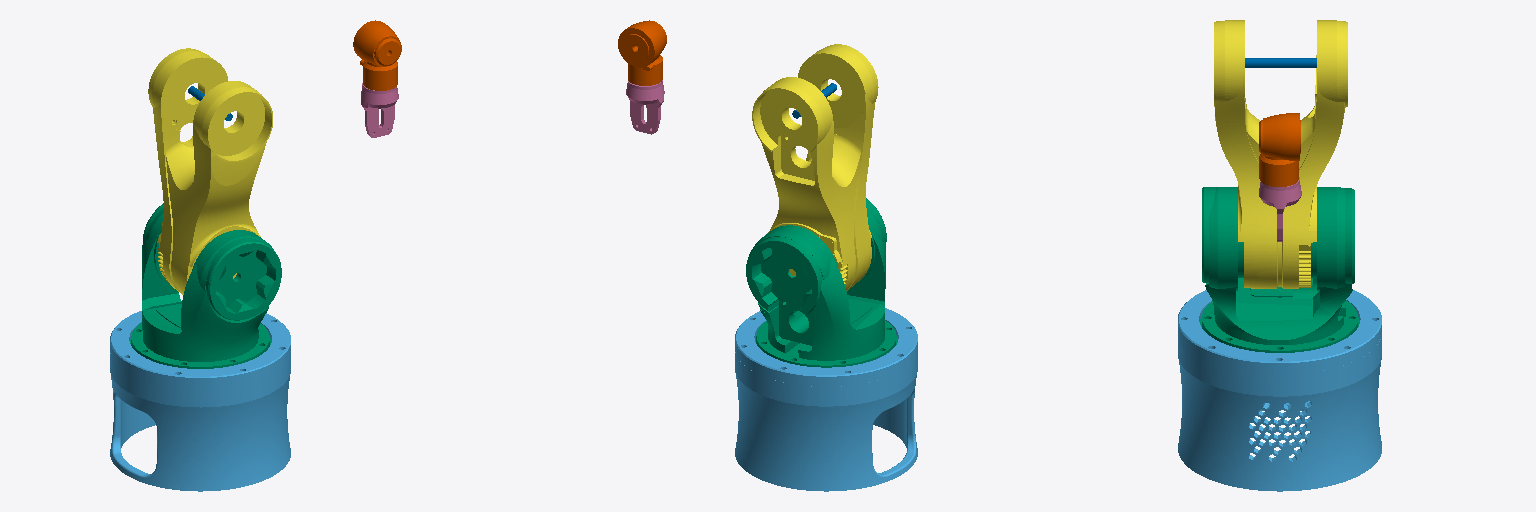
robot.urdf — manipulador:
<?xml version="1.0"?>
<robot name="manipulador">

<!--===================== LINKS =====================-->
  <link name = "world">
  </link>
  <!-- Support - 1 parte -->
  <link name="Support">
    <!--origin rpy="0 0 0" xyz="0 0 0.54" /-->
    <inertial>
      <!-- Volume:  4.9678384375e-01 -->
      <mass value="1.0"/>

      <!-- Center of mass:  7.1726190000e-02  8.3274000000e-04  1.3966684000e-01 -->
      <origin xyz="7.1726190000e-02  8.3274000000e-04  1.3966684000e-01" rpy="0 0 0"/>

      <!-- Inertia matrix -->
      <inertia
        ixx="4.2189241908e-01"
        ixy="5.9379537743e-04"
        ixz="6.7296383368e-03" 
        iyy="3.8385869267e-01"
        iyz="2.9011387812e-04" 
        izz="5.6774468564e-01" 
      />
    </inertial>
    <visual name="Support">
      <origin rpy="0 0 0" xyz="0 0 0.55" />
      <geometry>
        <mesh filename="package://manipulador_description/meshes/Support/Support.stl"/>
      </geometry>
    </visual>
    <collision>
      <origin rpy="0 0 0" xyz="0 0 0.55" />
      <geometry>
        <mesh filename="package://manipulador_description/meshes/Support/Support.stl"/>
      </geometry>
    </collision>

    <visual name="Ring">
      <origin rpy="0 0 -0.004" xyz="0.00014 -0.002 1.13" />
      <geometry>
        <mesh filename="package://manipulador_description/meshes/Support/Ring.stl"/>
      </geometry>
    </visual>
    <collision>
      <origin rpy="0 0 -0.004" xyz="0.00014 -0.002 1.13" />
      <geometry>
        <mesh filename="package://manipulador_description/meshes/Support/Ring.stl"/>
      </geometry>
    </collision>
  </link>

  <!-- Base - 2 parte -->
  <link name="Base">
    <inertial>
      <!-- Volume:  5.1779593750e-01 -->
      <mass value="1.0"/>

      <!-- Center of mass:  1.0734090000e-02 -3.1306260000e-02 -2.0209423000e-01 -->
      <origin xyz="1.0734090000e-02 -3.1306260000e-02 -2.0209423000e-01" rpy="0 0 0"/>
      <inertia ixx="2.4985402980e-01"
        ixy= "2.8065590994e-03"
        ixz="-1.9526662277e-02"
        iyy="2.0700495202e-01" 
        iyz="2.6764250154e-04"
        izz="1.9692468754e-01"/>
    </inertial>

    <visual name="toothedRing">
      <origin xyz="0 0 -0.04" rpy="0 0 0"/>
      <geometry>
        <mesh filename="package://manipulador_description/meshes/Base/ToothedRing.stl"/>
      </geometry>
    </visual>
    <collision>
      <origin xyz="0 0 -0.04" rpy="0 0 0"/>
      <geometry>
        <mesh filename="package://manipulador_description/meshes/Base/ToothedRing.stl"/>
      </geometry>
    </collision>

    <visual name="base">
      <origin xyz="0 0 0.63" rpy="0 0 0"/>
      <geometry>
        <mesh filename="package://manipulador_description/meshes/Base/Base.stl"/>
      </geometry>
    </visual>
    <collision>
      <origin xyz="0 0 0.63" rpy="0 0 0"/>
      <geometry>
        <mesh filename="package://manipulador_description/meshes/Base/Base.stl"/>
      </geometry>
    </collision>
  </link>

  <!-- Lower Arm - 3 parte -->
  <link name="LowerArm">
    <!--origin xyz="0.117 -0.015 2.15" rpy="0 0 0"/-->
    <inertial>
      <!-- Volume:  7.2606862500e-01 -->
      <mass value="1.0"/>

     <!-- Center of mass: -2.9281710000e-02 -1.9001520000e-02  4.2914791000e-01 -->
      <origin xyz="-2.9281710000e-02 -1.9001520000e-02  4.2914791000e-01" rpy="0 0 0"/>
      <inertia 
        ixx="2.0930545622e-01"
        ixy="-2.3801660277e-04"
        ixz="2.1646688011e-03"
        iyy="1.9833343770e-01" 
        iyz="1.4079684100e-04"
        izz="5.1472661830e-02"/>
    </inertial>
    <visual name="Arm1">
      <origin xyz="0 -0.015 0.15" rpy="0 0 0"/>
      <geometry>
        <mesh filename="package://manipulador_description/meshes/LowerArm/LowerArm.stl"/>
      </geometry>
    </visual>
    <collision>
      <origin xyz="0 -0.015 0.15" rpy="0 0 0"/>
      <geometry>
        <mesh filename="package://manipulador_description/meshes/LowerArm/LowerArm.stl"/>
      </geometry>
    </collision>
    
    <visual name="pino">
      <origin xyz="0.005 0 0" rpy="1.5708 1.5708 0"/>
      <geometry>
        <cylinder length="0.8" radius="0.04"/>
      </geometry>
    </visual>
     <collision>
      <origin xyz="0.005 0 0" rpy="1.5708 1.5708 0"/>
      <geometry>
        <cylinder length="0.8" radius="0.04"/>
      </geometry>
    </collision>>
  </link>

  <!-- Upper Arm - 4 parte -->
  <link name="UpperArm">
    <!--origin xyz="0.22 0.001 3.63" rpy="0 0 0"/-->  
    <inertial>
      <!-- Volume:  6.3770118750e-01 -->
      <mass value="0.2"/>

     <!-- Center of mass:  5.4617455000e-01  4.7914700000e-03  7.7464810000e-02 -->
      <origin xyz="5.4617455000e-01  4.7914700000e-03  7.7464810000e-02" rpy="0 0 0"/>
      <inertia 
        ixx="3.0737638857e-02"
        ixy="-5.9791790806e-03"
        ixz="-1.8271795362e-02"
        iyy="2.0499584345e-01" 
        iyz="-8.6160095162e-04"
        izz="2.0368961160e-01"/>
    </inertial>  
    <visual name="upperArm">
      <origin xyz="0.103 0.01 0.035" rpy="0 0 0"/>
      <geometry>
        <mesh filename="package://manipulador_description/meshes/UpperArm/UpperArm.stl"/>
      </geometry>
    </visual>
    <collision>
      <origin xyz="0.103 0.01 0.035" rpy="0 0 0"/>
      <geometry>
        <mesh filename="package://manipulador_description/meshes/UpperArm/UpperArm.stl"/>
      </geometry>
    </collision>

    <visual name="pinoUpper">
      <origin xyz="0 0.015 0" rpy="1.5708 1.5708 0"/>
      <geometry>
        <cylinder length="0.7" radius="0.04"/>
      </geometry>
    </visual>
    <collision>
      <origin xyz="0 0.015 0" rpy="1.5708 1.5708 0"/>
      <geometry>
        <cylinder length="0.7" radius="0.04"/>
      </geometry>
    </collision>
  </link>

  <!-- GrasperHolder - 5 parte -->
  <link name="GrasperHolder">
    <inertial>
      <!-- Volume:  4.6362562500e-02 -->
      <mass value="0.1"/>

      <!-- Center of mass: -3.0875000000e-04  8.1761400000e-03  2.6252960000e-02 -->
      <origin xyz="-3.0875000000e-04  8.1761400000e-03  2.6252960000e-02" rpy="0 0 0"/>
      <inertia 
        ixx="5.9870685534e-03"
        ixy="9.5459665061e-06"
        ixz="-1.1134579051e-05"
        iyy="5.9527261894e-03" 
        iyz="-2.7627261220e-04"
        izz="3.5809690200e-03"/>
    </inertial>
    <visual name="grasperHolder">
      <origin xyz="0.004 0.001 -0.087" rpy="0 0 0"/>
      <geometry>
        <mesh filename="package://manipulador_description/meshes/GrasperHolder/GrasperHolder.stl"/>
      </geometry>
    </visual>
    <collision>
      <origin xyz="0.004 0.001 -0.087" rpy="0 0 0"/>
      <geometry>
        <mesh filename="package://manipulador_description/meshes/GrasperHolder/GrasperHolder.stl"/>
      </geometry>
    </collision>
  </link>

  <!-- Grasper - 6 parte -->
  <link name="Grasper">
    <inertial>
      <!-- Volume:  5.9164203125e-02 -->
      <mass value="0.1"/>

      <!-- Center of mass:  3.3870000000e-04  4.5093000000e-04 -2.3830086000e-01 -->
      <origin xyz="3.3870000000e-04  4.5093000000e-04 -2.3830086000e-01" rpy="0 0 0"/>
      <inertia 
        ixx="1.0964352864e-02"
        ixy="2.3511915923e-06"
        ixz="1.0524369545e-05"
        iyy="1.2156277648e-02" 
        iyz="1.0870709670e-05"
        izz="1.9657217347e-03"/>
    </inertial>  

    <visual name="grasperBody">
      <origin xyz="0 0.001 -0.21" rpy="0 0 0"/>
      <geometry>
        <mesh filename="package://manipulador_description/meshes/Grasper/GrasperBody.stl"/>
      </geometry>
    </visual>
  </link>

<!--===================== Joints ===================== -->
  <joint name="world_joint" type="fixed">
    <parent link="world" />
    <child link = "Support" />
    <origin xyz="0.0 0.0 0.0" rpy="0.0 0.0 0.0" />
  </joint>

  <!-- joint 1 - Support/Base -->
  <joint name="first" type="revolute">
    <origin xyz="0 0 1.15" rpy="0 0 0"/>
    <axis xyz="0 0 1"/>
    <parent link="Support"/>
    <child link="Base"/>
    <limit effort="50" lower="-3.14159" upper="3.14159" velocity="1"/>
    <dynamics damping="0.7" friction="0.0"/>
  </joint>

  <!-- joint 2 - Base/ Lower Arm -->
  <joint name="second" type="revolute">
    <origin xyz="0.116 0 0.85" rpy="0 0 0"/>
    <axis xyz="0 1 0"/>
    <parent link="Base"/>
    <child link="LowerArm"/>
    <limit effort="50" lower="-1.5708" upper="1.5708" velocity="1"/>
    <dynamics damping="0.7" friction="0.0"/>
  </joint>

  <!-- joint 3 - Lower Arm/ Upper Arm  -->
  <joint name="third" type="revolute">
    <!--origin xyz="0.001 0.014 1.6" rpy="0 0 0"/-->
    <origin xyz="0 0 1.6" rpy="0 0 0"/>
    <axis xyz="0 1 0"/>
    <parent link="LowerArm"/>
    <child link="UpperArm"/>
    <limit effort="50" lower="-1.5708" upper="0" velocity="1"/>
    <dynamics damping="0.7" friction="0.0"/>
  </joint>

  <!-- joint 4 - Upper Arm/Grasper Holder  -->
  <joint name="fourth" type="revolute">
    <origin xyz="1.826 0 0.17" rpy="0 0 0"/>
    <axis xyz="0 1 0"/>
    <parent link="UpperArm"/>
    <child link="GrasperHolder"/>
    <limit effort="50" lower="-1.5708" upper="0" velocity="1"/>
    <dynamics damping="0.7" friction="0.0"/>
  </joint>

  <!-- joint 5 - Grasper Holder/Grasper  -->
  <joint name="fifth" type="revolute">
    <origin xyz="0 0 -0.37" rpy="0 0 0"/>
    <axis xyz="0 0 1"/>
    <parent link="GrasperHolder"/>
    <child link="Grasper"/>
    <limit effort="50" lower="-1.5708" upper="1.5708" velocity="1"/>
    <dynamics damping="0.7" friction="0.0"/>
  </joint>

<!--===================== TRANSMISSION ===================== -->
  <!-- transmission 1 - Support/Base -->
  <transmission name="first_transmission">
    <type>transmission_interface/SimpleTransmission</type>
    <joint name="first">
      <hardwareInterface>hardware_interface/EffortJointInterface</hardwareInterface>
    </joint>
    <actuator name="$first_motor">
      <mechanicalReduction>1</mechanicalReduction>
    </actuator> 
  </transmission>

  <!-- transmission 2 - Base/Lower Arm -->
  <transmission name="second_transmission">
    <type>transmission_interface/SimpleTransmission</type>
    <joint name="second">
      <hardwareInterface>hardware_interface/EffortJointInterface</hardwareInterface>
    </joint>
    <actuator name="base_lowerArm_motor">
      <mechanicalReduction>1</mechanicalReduction>
    </actuator> 
  </transmission>

  <!-- transmission 3 - Lower Arm/Upper Arm -->
  <transmission name="third_transmission">
    <type>transmission_interface/SimpleTransmission</type>
    <joint name="third">
      <hardwareInterface>hardware_interface/EffortJointInterface</hardwareInterface>
    </joint>
    <actuator name="$LowerArm_UpperArm_motor">
      <mechanicalReduction>1</mechanicalReduction>
    </actuator> 
  </transmission>

  <!-- transmission 4 - Upper Arm/Grasper Holder -->
  <transmission name="fourth_transmission">
    <type>transmission_interface/SimpleTransmission</type>
    <joint name="fourth">
      <hardwareInterface>hardware_interface/EffortJointInterface</hardwareInterface>
    </joint>
    <actuator name="$UpperArm_GrasperHolder_motor">
      <mechanicalReduction>1</mechanicalReduction>
    </actuator> 
  </transmission>
  
  <!-- transmission 5 - Grasper Holder/Grasper -->
  <transmission name="fifth_transmission">
    <type>transmission_interface/SimpleTransmission</type>
    <joint name="fifth">
      <hardwareInterface>hardware_interface/EffortJointInterface</hardwareInterface>
    </joint>
    <actuator name="$GrasperHolder_Grasper_motor">
      <mechanicalReduction>1</mechanicalReduction>
    </actuator> 
  </transmission>
 

<!-- ========================== PLUGINS ========================== -->
  <gazebo>
    <plugin name="gazebo_ros_control" filename="libgazebo_ros_control.so">
      <robotNamespace>/manipulador</robotNamespace>
    </plugin>
  </gazebo>

</robot>

--- Render facts (derived) ---
Views: 3 orthographic renders of the robot side by side, from view 1: azimuth 30°, elevation 25°; view 2: azimuth 150°, elevation 25°; view 3: azimuth 270°, elevation 25°.
Robot: manipulador — 7 links, 6 joints (5 revolute, 1 fixed); root link world; default pose: all joints at 0.
Visible links, largest first — view 1: Support, LowerArm, Base, GrasperHolder, Grasper; view 2: Support, LowerArm, Base, GrasperHolder, Grasper; view 3: Support, LowerArm, Base, GrasperHolder, Grasper, UpperArm.
Link boxes in pixels (box(x1,y1,x2,y2)): Support: box(110, 311, 290, 491); LowerArm: box(148, 48, 272, 294); Base: box(130, 203, 281, 368); GrasperHolder: box(353, 20, 401, 90); Grasper: box(361, 83, 398, 137); Support: box(735, 308, 917, 491); LowerArm: box(752, 44, 878, 290); Base: box(746, 198, 897, 367); GrasperHolder: box(618, 20, 666, 85); Grasper: box(626, 80, 664, 134); Support: box(1178, 290, 1381, 491); LowerArm: box(1214, 20, 1347, 288); Base: box(1200, 187, 1359, 352); GrasperHolder: box(1259, 113, 1300, 186); Grasper: box(1259, 177, 1301, 241); UpperArm: box(1245, 58, 1316, 67).
Size in the robot's own frame: 2.99 by 1.7 by 3.96 metres.
Meshes: 8 distinct files referenced, 7 mesh visuals loaded (7 binary STL); not drawn: 1 (reference not matched to a file when rendering).